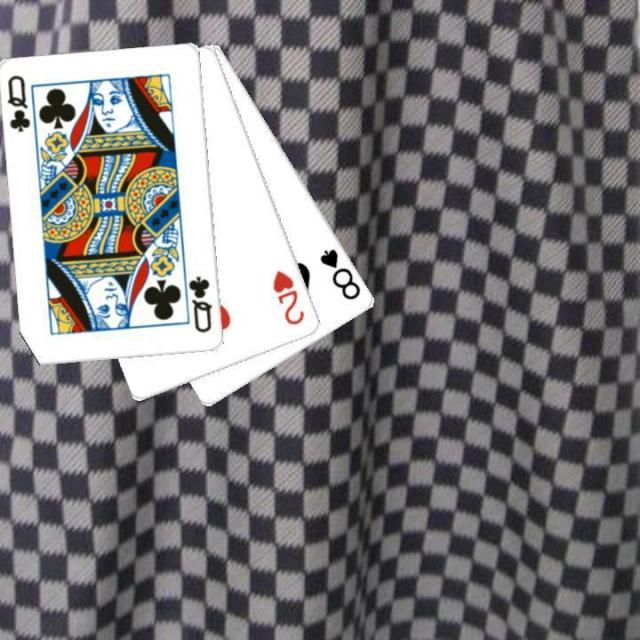2H: (269, 266, 307, 328)
8S: (316, 245, 364, 302)
QC: (184, 272, 214, 335), (4, 72, 33, 134)
